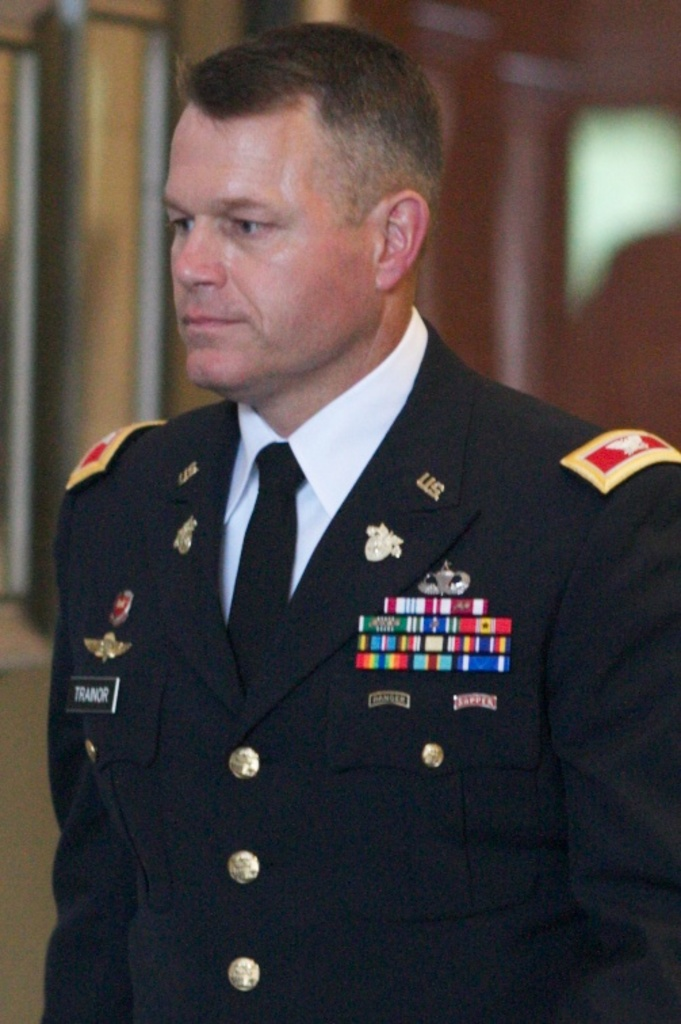Person: (39, 18, 680, 1023)
